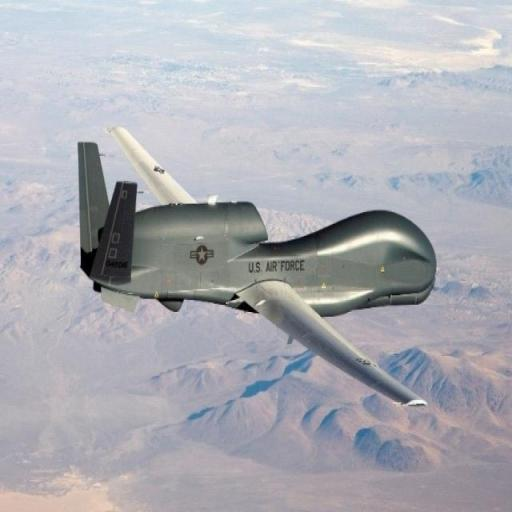uav: (78, 117, 436, 419)
